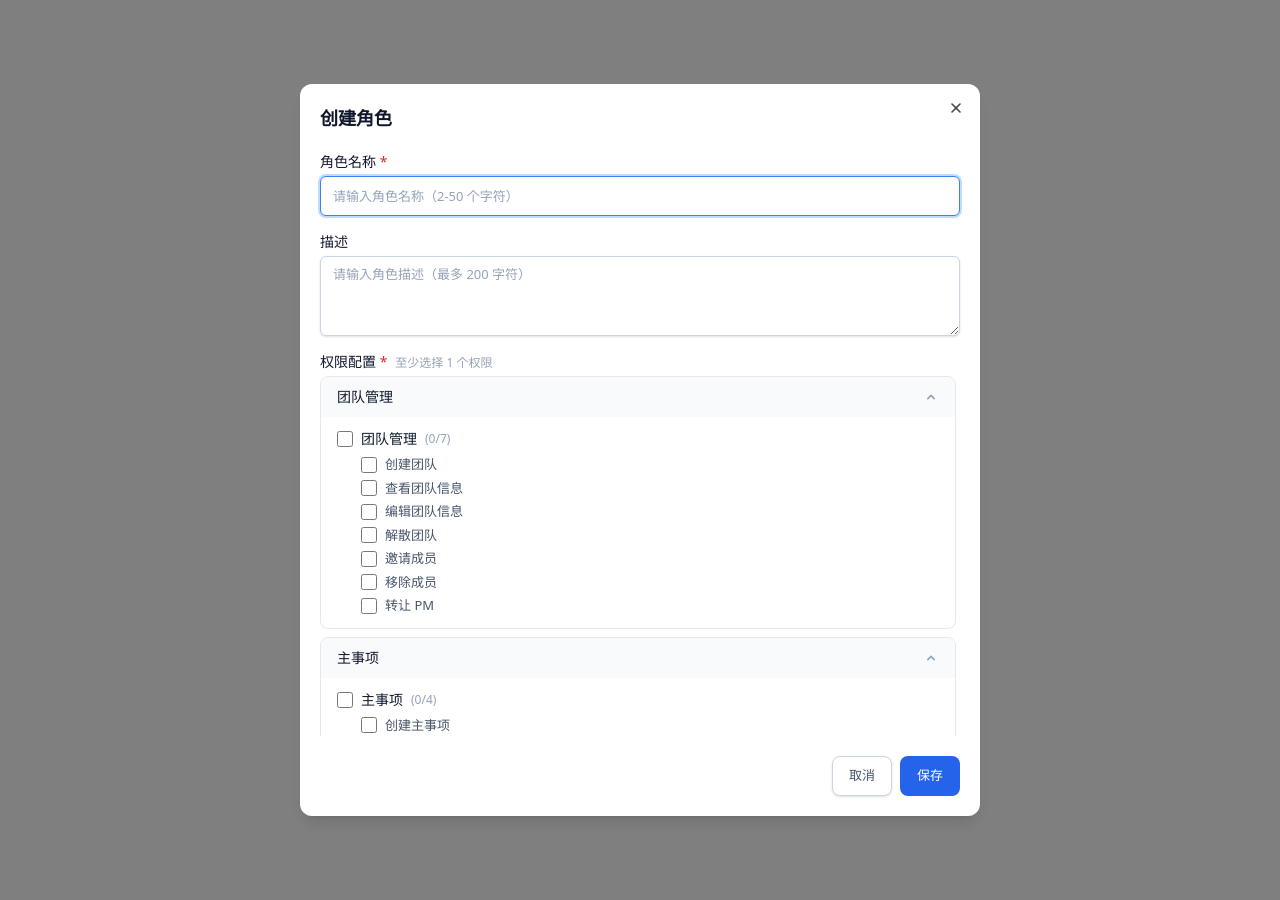
RoleEditDialog › validates name length on save
Type "a" into the field with placeholder "请输入角色名称（2-50 个字符）".
click(640, 196); type("a")  # box [320,176,960,216]
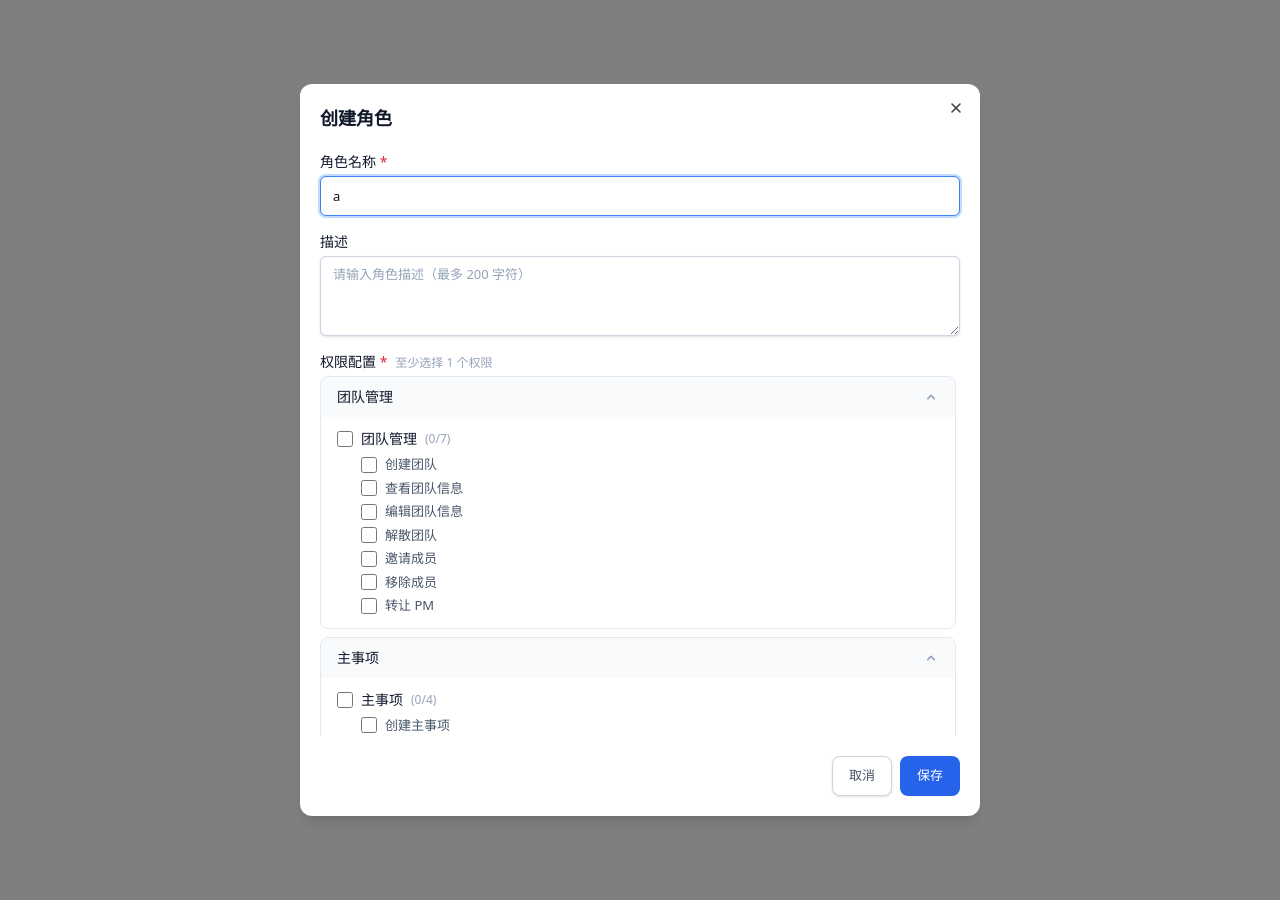
Click the button "保存".
click(930, 776)  # box [900,756,960,796]
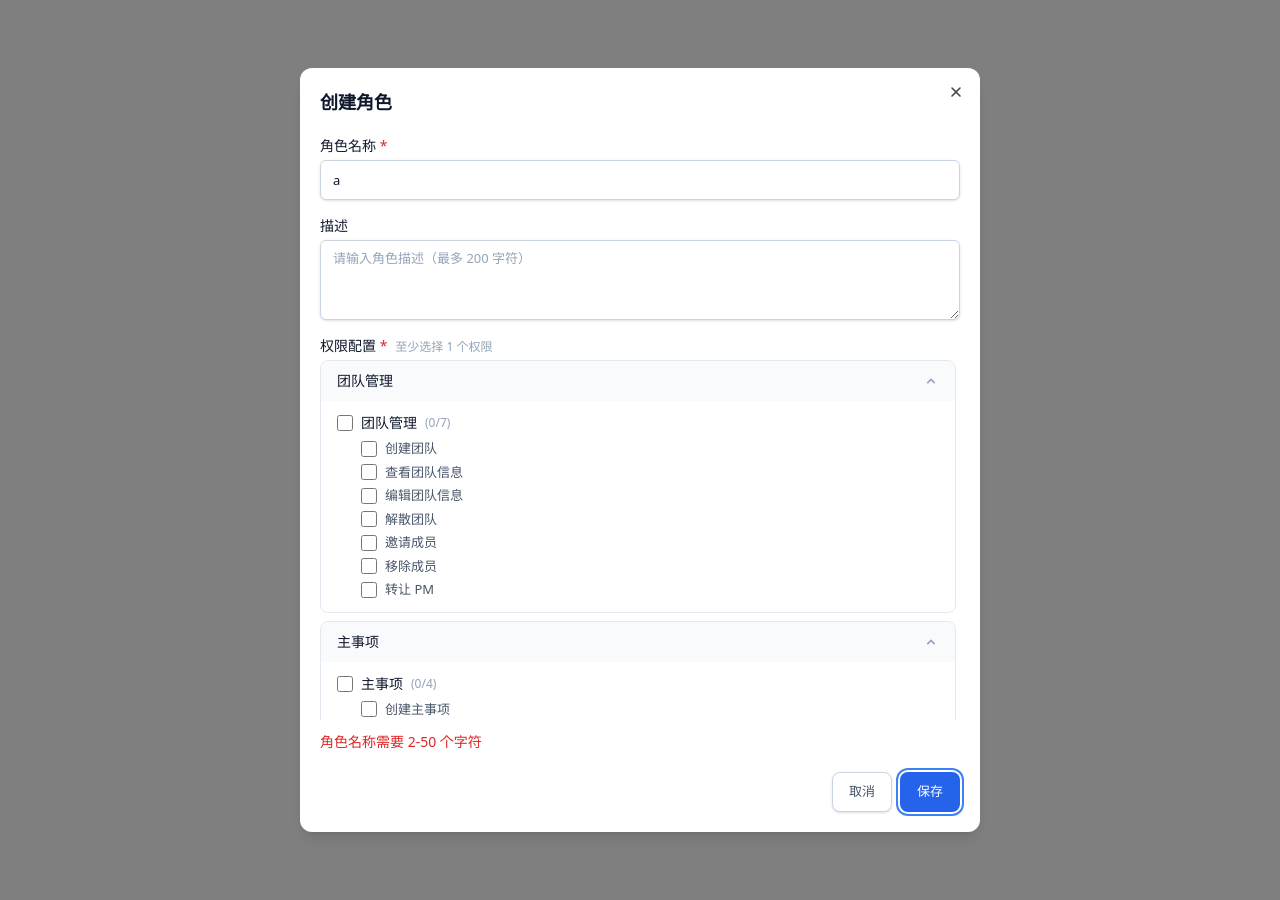
Now the text "角色名称需要 2-50 个字符" is shown, box [320,732,482,751]
